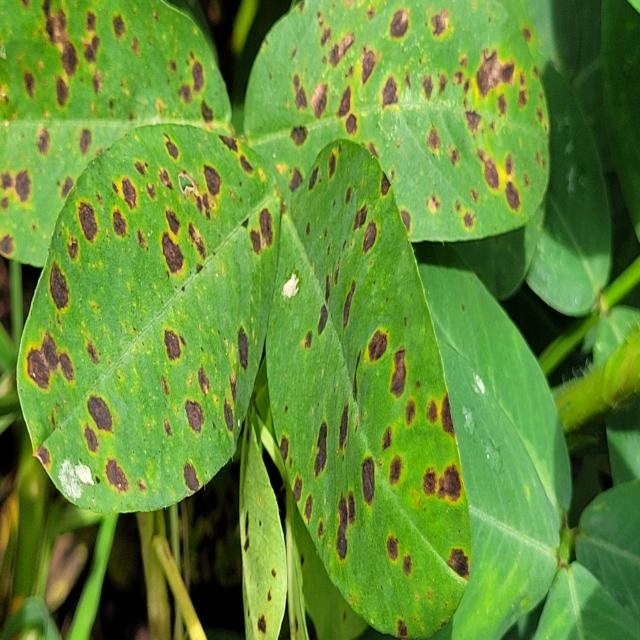Ground nut_tikka leaf spot: (18, 118, 282, 512), (265, 138, 472, 640), (248, 0, 552, 239), (0, 0, 233, 263)
